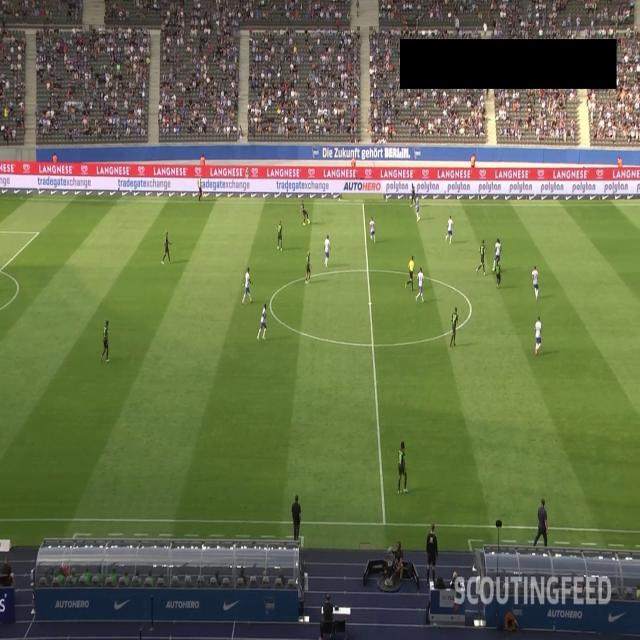ball: (305, 214, 312, 231)
player: (396, 437, 408, 498), (102, 318, 114, 364), (257, 299, 268, 342), (529, 265, 543, 297), (477, 236, 487, 277), (415, 265, 426, 302), (242, 264, 252, 304), (161, 229, 172, 263), (450, 305, 459, 344), (533, 315, 542, 353), (493, 260, 504, 288), (304, 246, 312, 284), (444, 212, 452, 248), (412, 194, 422, 222), (368, 215, 378, 241), (494, 235, 500, 273), (277, 219, 284, 251), (324, 232, 330, 268), (300, 200, 308, 227), (410, 179, 416, 206)
